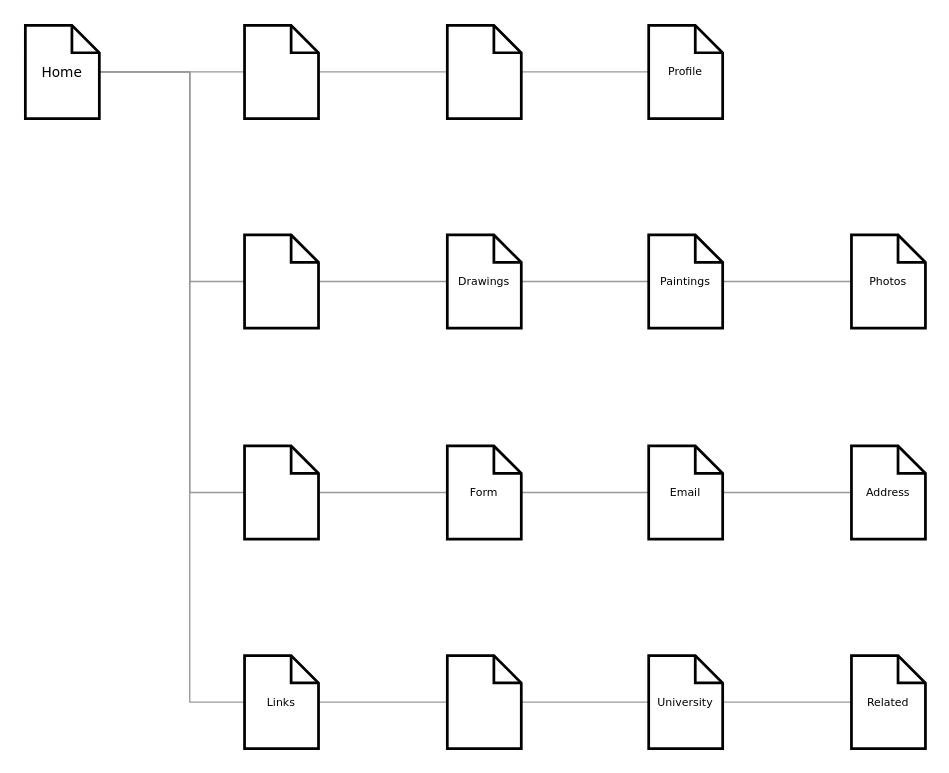
Some shapes in this 949 by 773 pixel diagram are drawn without their labels. Each missing label, with the centre of its shape:
About: the point at 280,71
Company: the point at 483,701
Contact: the point at 280,492
Image: the point at 483,71
Portfolio: the point at 280,281
